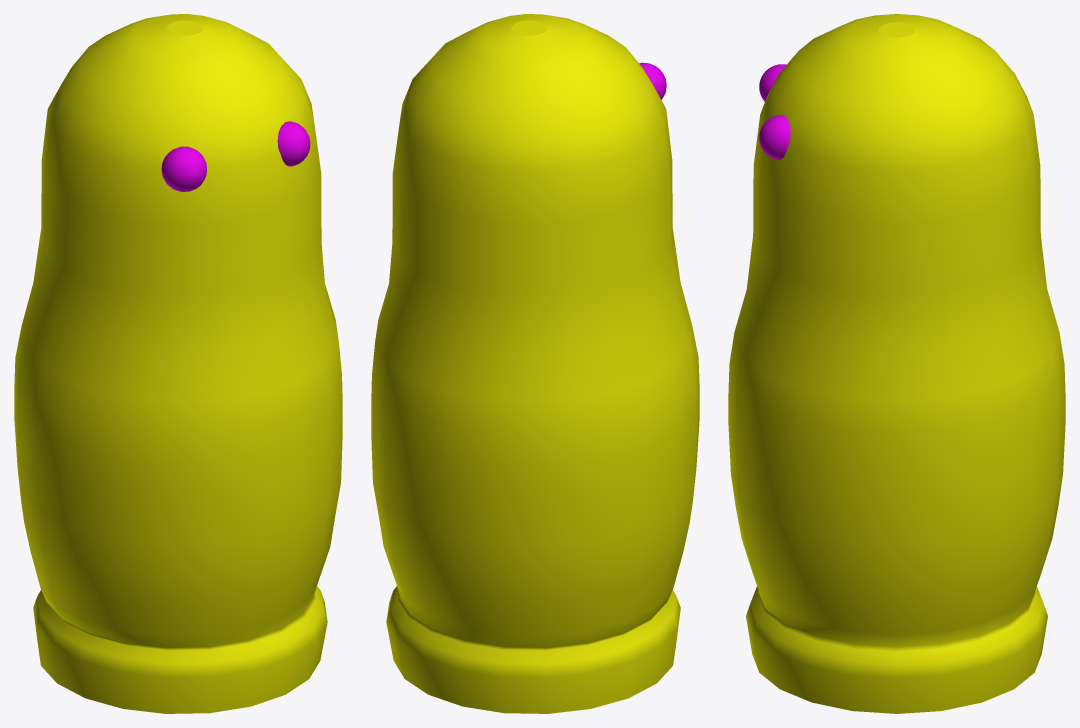
The model's file is person5.fbx.
3 views of the same model, side by side, from view 1: azimuth 30°, elevation 25°; view 2: azimuth 150°, elevation 25°; view 3: azimuth 270°, elevation 25° (orthographic).
Visible parts, largest first — view 1: person5; view 2: person5; view 3: person5.
Boxes of the visible parts, x1,y1,x2,y2 form: person5: (14, 14, 342, 713); person5: (371, 14, 699, 713); person5: (728, 14, 1065, 713).
Size of the model in its own units: 4.1 by 8.61 by 4.2.
